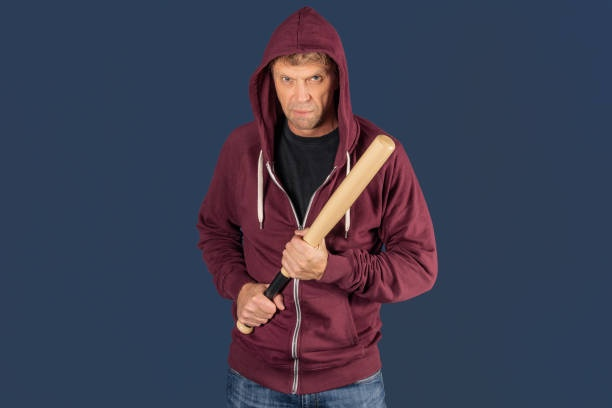bita: (264, 125, 392, 298)
